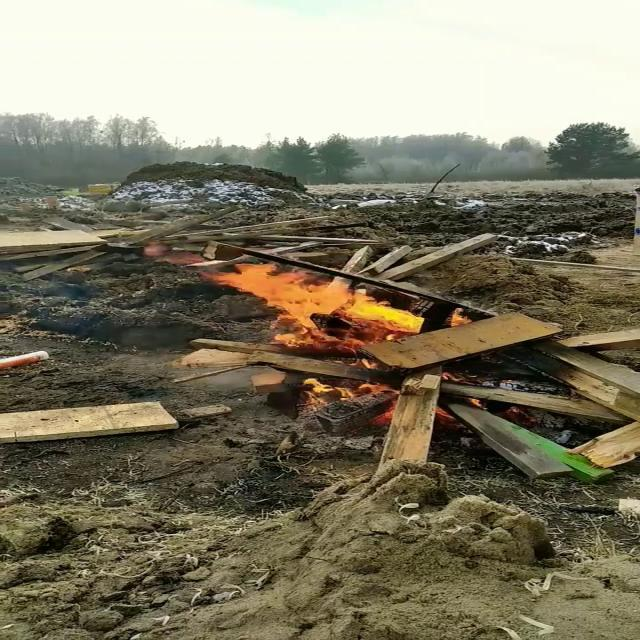Fire: (190, 262, 443, 411)
